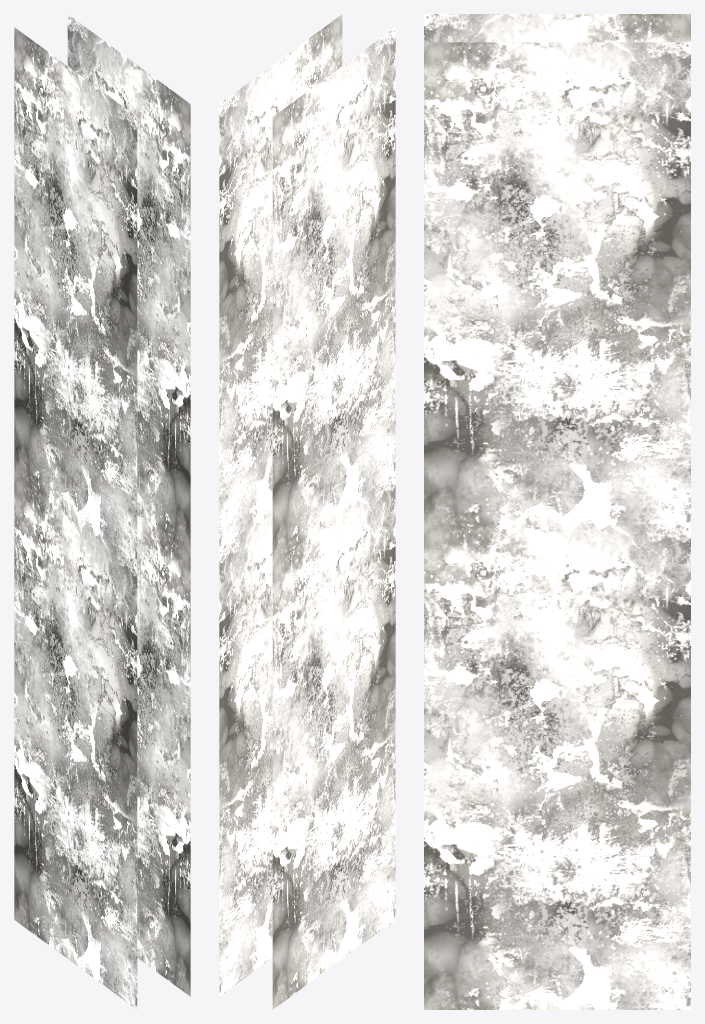
Rendered from SM_wall_A_int_1x4_01_01.fbx.
3 renders of one model, left to right at view 1: azimuth 30°, elevation 25°; view 2: azimuth 150°, elevation 25°; view 3: azimuth 270°, elevation 25°, orthographic. The views are drawn at different scales.
Parts seen in each view (by area): view 1: SM_wall_A_int_1x4_01_01_LOD0; view 2: SM_wall_A_int_1x4_01_01_LOD0; view 3: SM_wall_A_int_1x4_01_01_LOD0.
Boxes of the visible parts, left/top/right/bottom form: SM_wall_A_int_1x4_01_01_LOD0: left=14, top=14, right=190, bottom=1009; SM_wall_A_int_1x4_01_01_LOD0: left=219, top=14, right=395, bottom=1009; SM_wall_A_int_1x4_01_01_LOD0: left=424, top=14, right=690, bottom=1009.
Size of the model in its own units: 25 by 100 by 400.
1 material, 1 textured.
